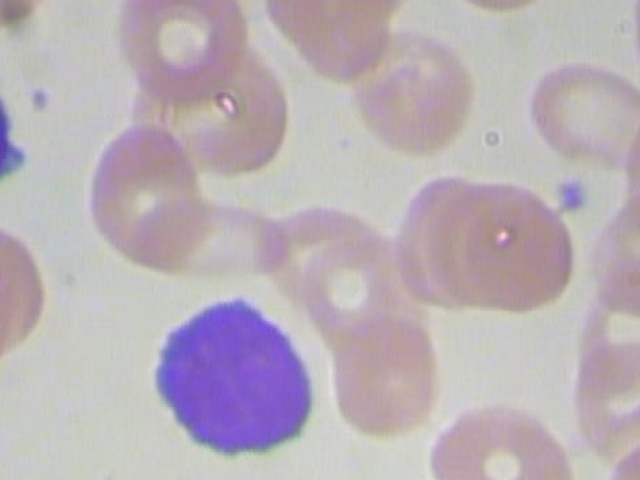Platelets: (547, 172, 593, 220)
RBC: (335, 25, 493, 158), (84, 115, 211, 271), (317, 298, 451, 444), (451, 172, 585, 317), (92, 0, 252, 110), (251, 0, 406, 98), (424, 397, 582, 480), (566, 328, 640, 457), (0, 219, 28, 400), (586, 424, 640, 480)
WBC: (139, 277, 319, 466), (0, 24, 25, 200)
